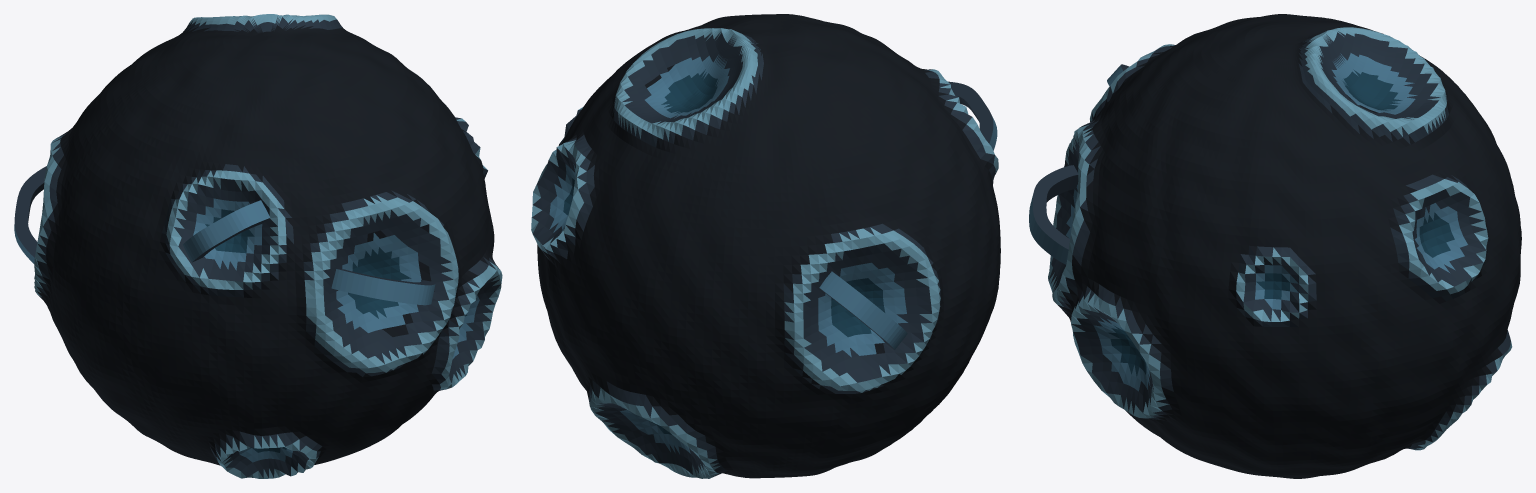
File: onice.obj
3 views of the same model, side by side, from view 1: azimuth 30°, elevation 25°; view 2: azimuth 150°, elevation 25°; view 3: azimuth 270°, elevation 25° (orthographic). The views are drawn at different scales.
Visible parts, largest first — view 1: Onice_|_corteza_y_crateres, Onice_|_arco_natural_01, Onice_|_arco_natural_02, Onice_|_arco_natural_03; view 2: Onice_|_corteza_y_crateres, Onice_|_arco_natural_03, Onice_|_arco_natural_02; view 3: Onice_|_corteza_y_crateres, Onice_|_arco_natural_01.
Part boxes in pixels (x1,y1,x2,y2): Onice_|_corteza_y_crateres: (34,14,502,478); Onice_|_arco_natural_01: (331,269,435,305); Onice_|_arco_natural_02: (183,200,270,262); Onice_|_arco_natural_03: (14,166,46,263); Onice_|_corteza_y_crateres: (531,14,1000,478); Onice_|_arco_natural_03: (819,271,907,349); Onice_|_arco_natural_02: (948,81,997,150); Onice_|_corteza_y_crateres: (1048,14,1521,478); Onice_|_arco_natural_01: (1029,165,1078,264).
Bounding box in the file's own units: 2.05 × 2.05 × 2.13.
